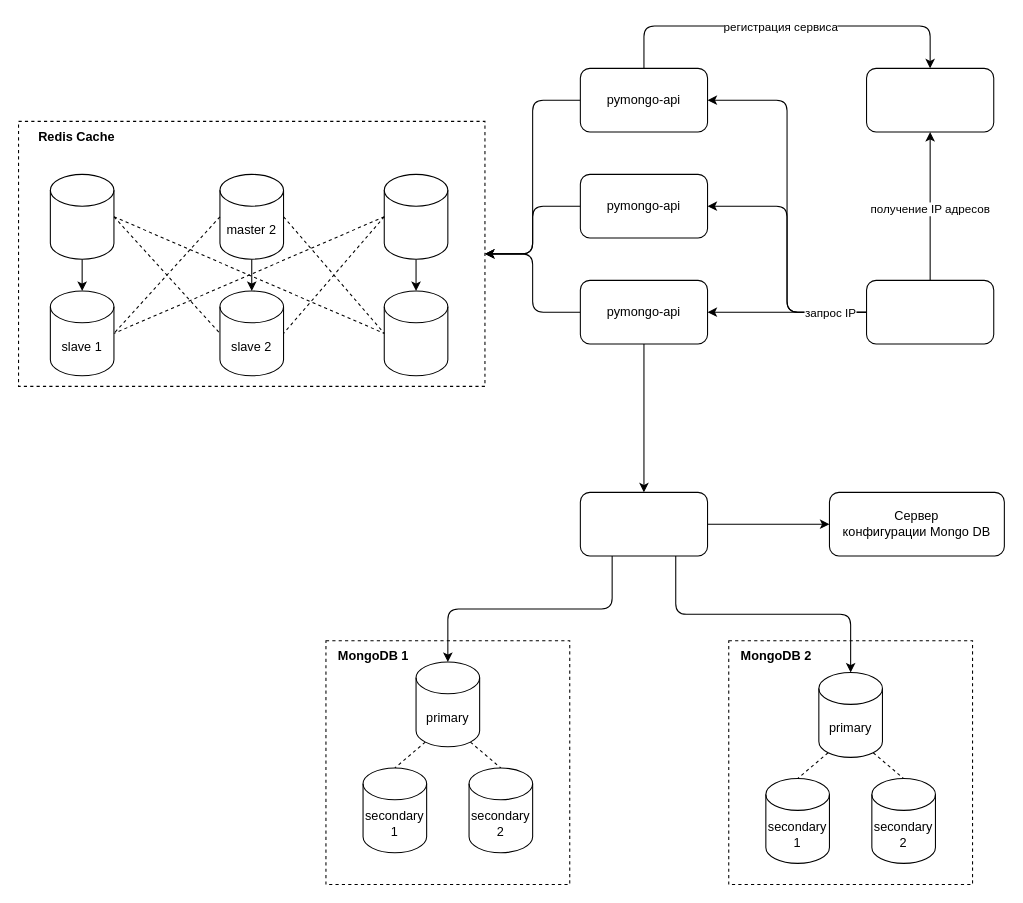
This 1023x903 diagram has some shape labels left out. Each missing label, with the centre of its shape:
API Gateway: point 929,311
Consul: point 929,99
master 1: point 81,216
master 3: point 415,216
slave 3: point 415,333
Роутер Mongo DB: point 643,523
